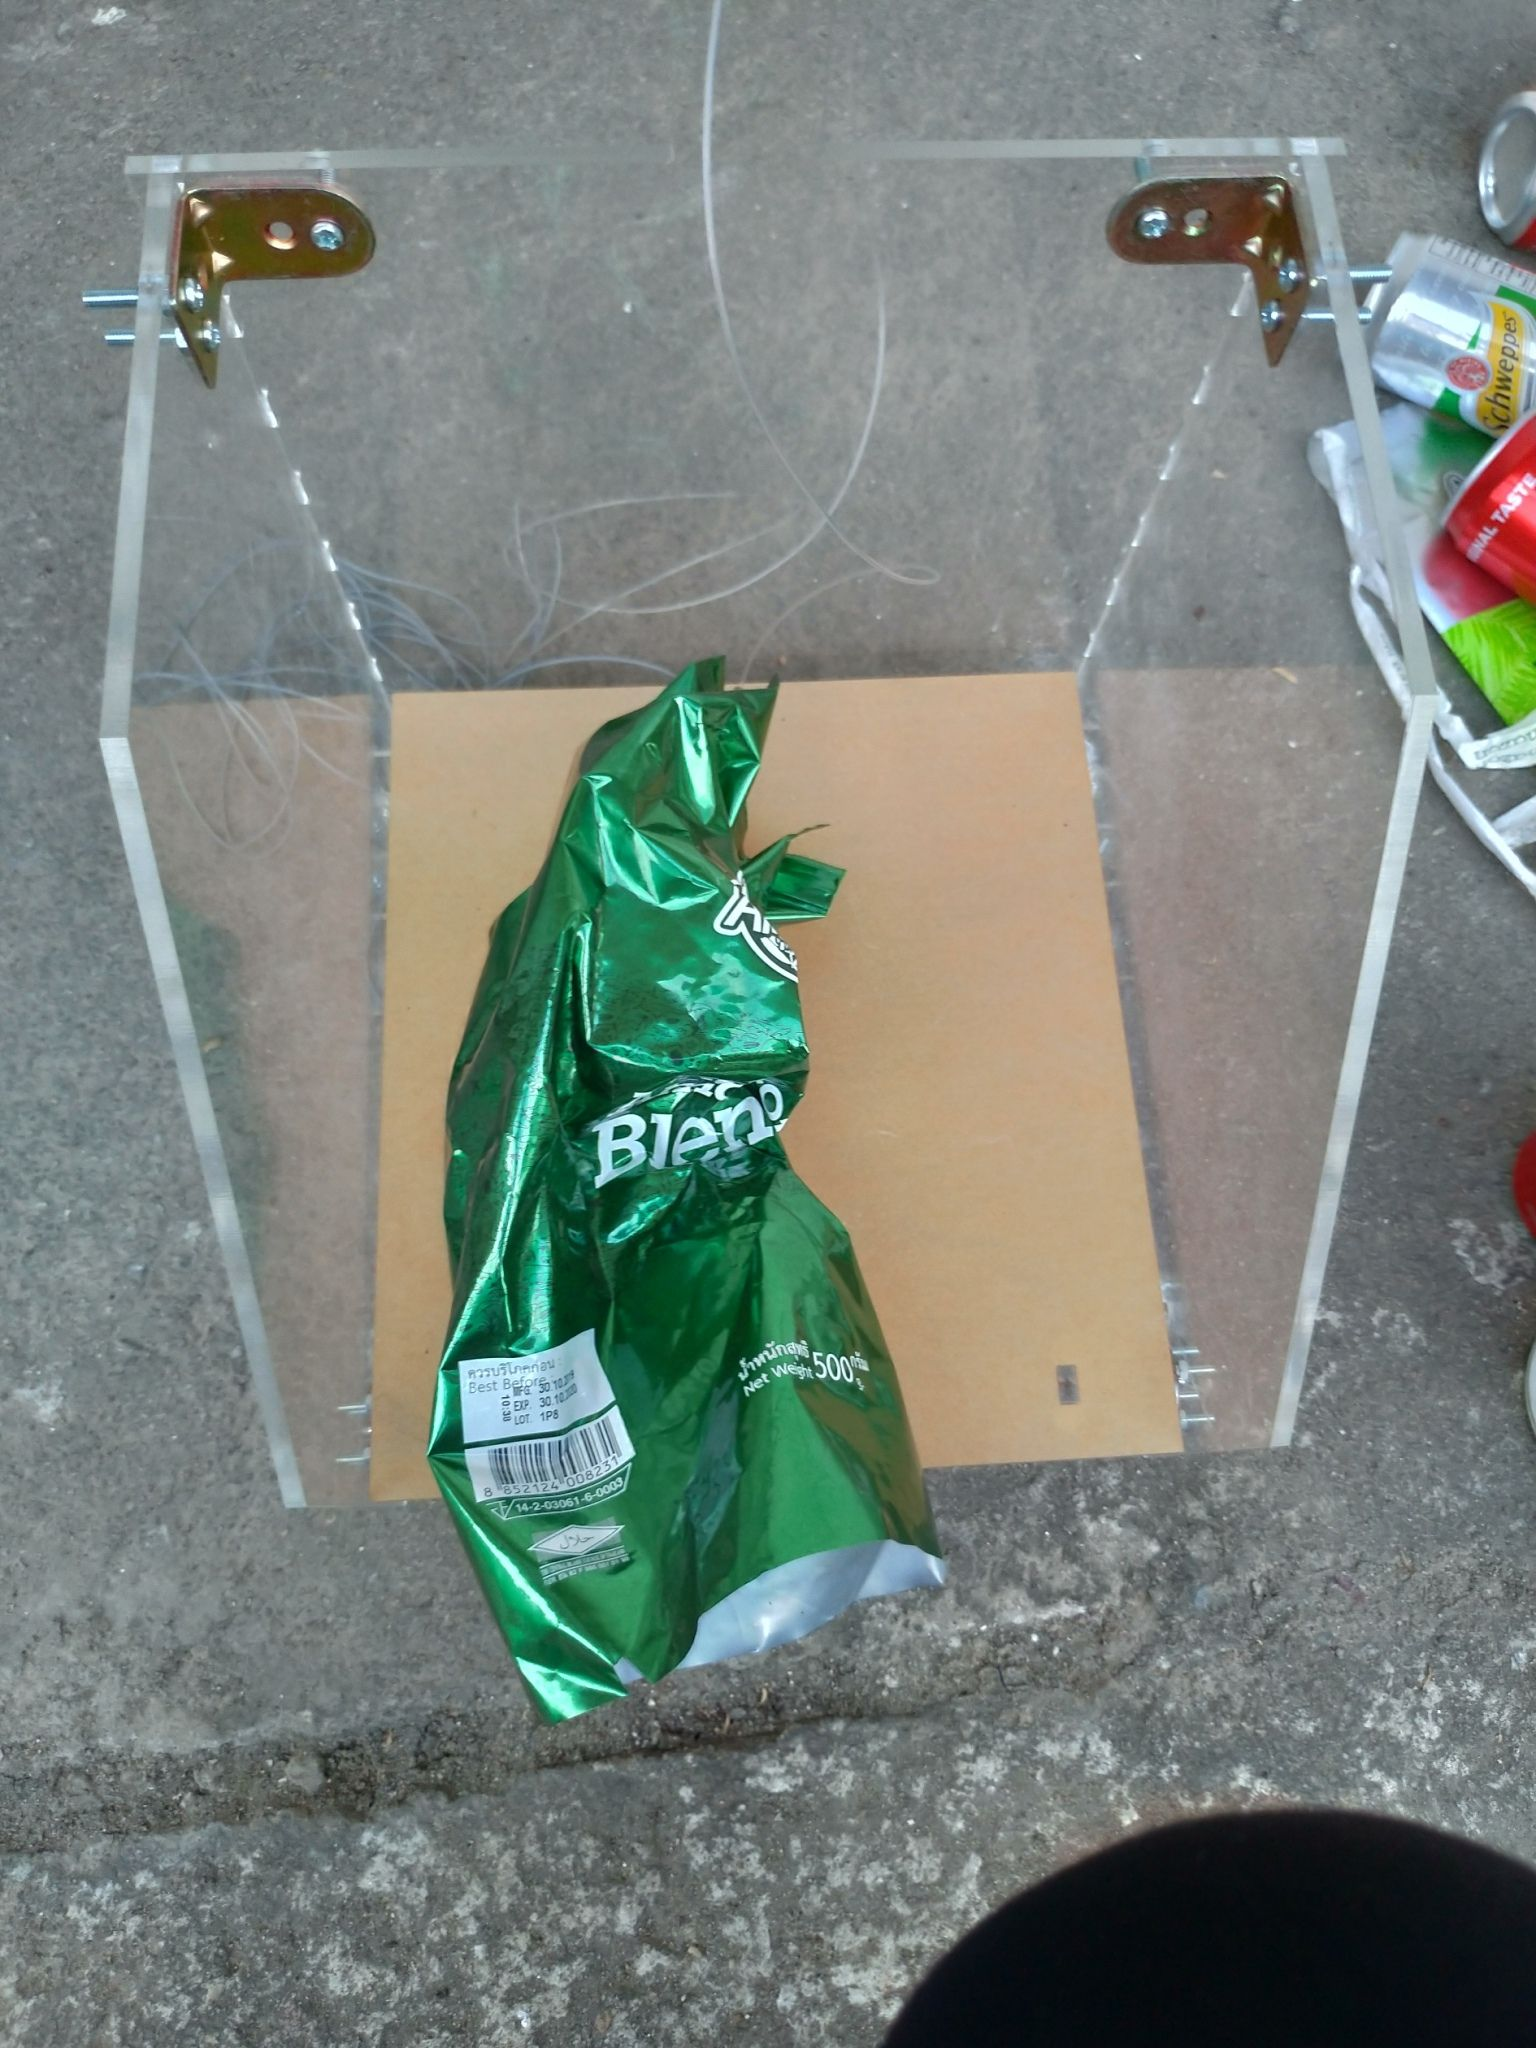AlCan: (1341, 229, 1536, 426), (1438, 413, 1536, 590)
Others: (424, 661, 966, 1722)
